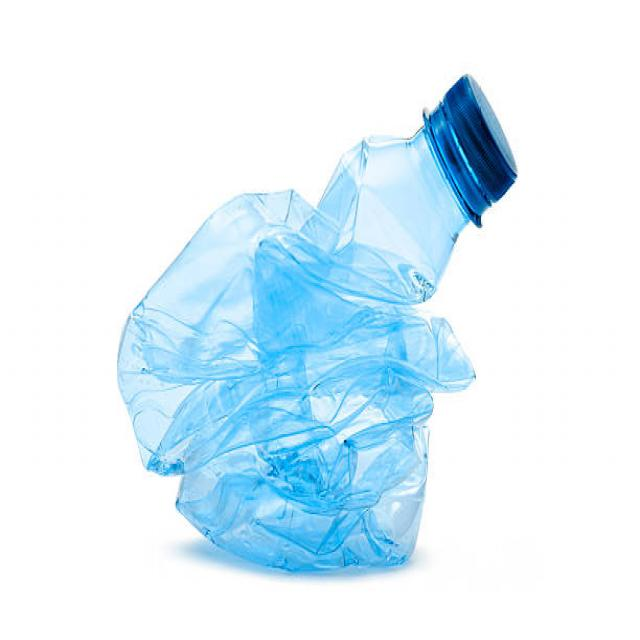plastic: (117, 69, 520, 575)
